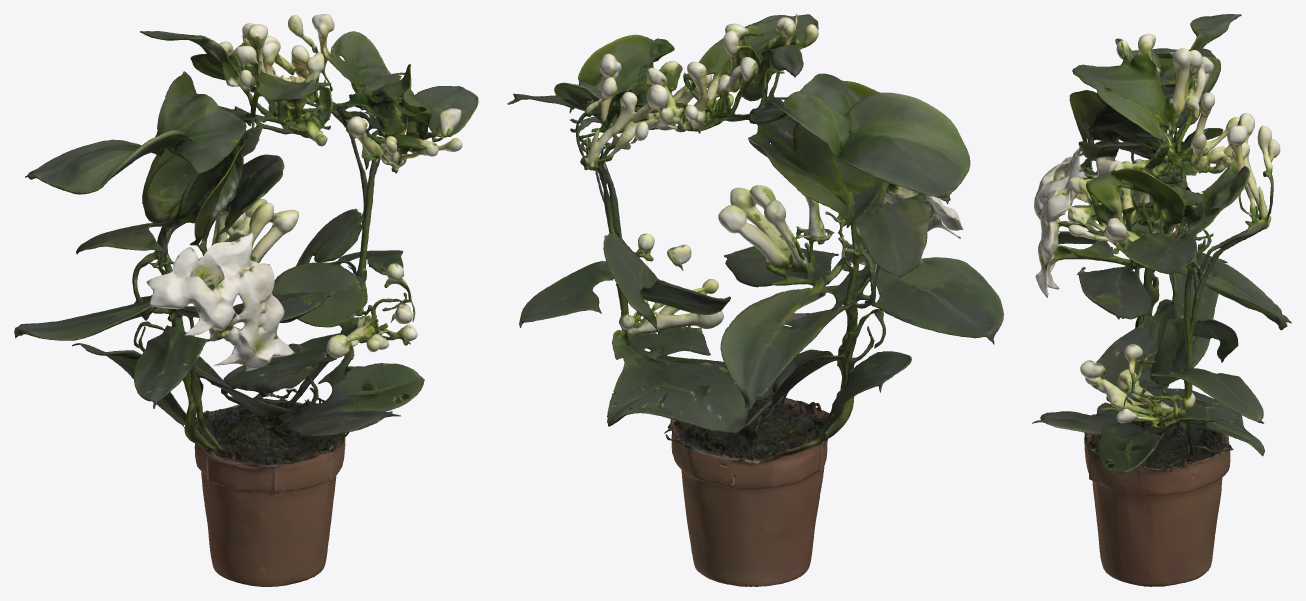
File: Stephanotis3dModel.glb
The picture shows the model from 3 angles, left to right: view 1: azimuth 30°, elevation 25°; view 2: azimuth 150°, elevation 25°; view 3: azimuth 270°, elevation 25°; orthographic projection. The views are drawn at different scales.
Size of the model in its own units: 1.83 by 2 by 0.913.
Materials: 1 (1 with a texture image).
